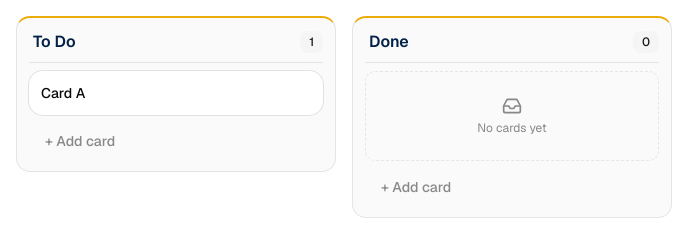
creates a card
Click the button "+ Add card" below "No cards yet" at [416, 187], box 365,169 -> 659,205
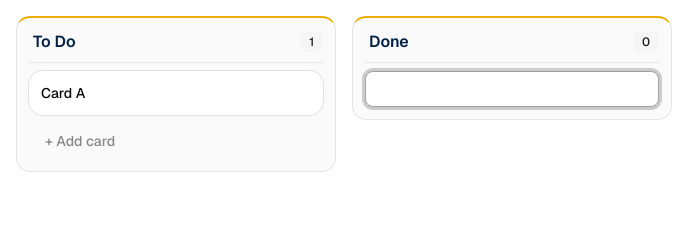
Type "New task" into the field named "New card title" at [512, 89], box 365,71 -> 659,107
Then press Enter
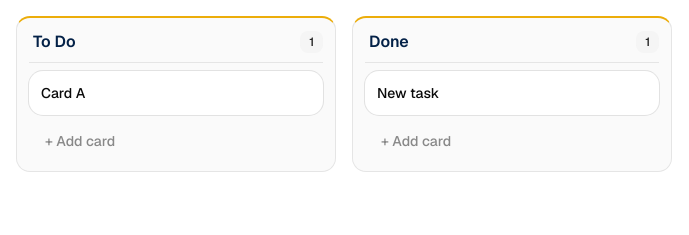
Expected: the text "New task" is shown, 377,84 -> 439,102
